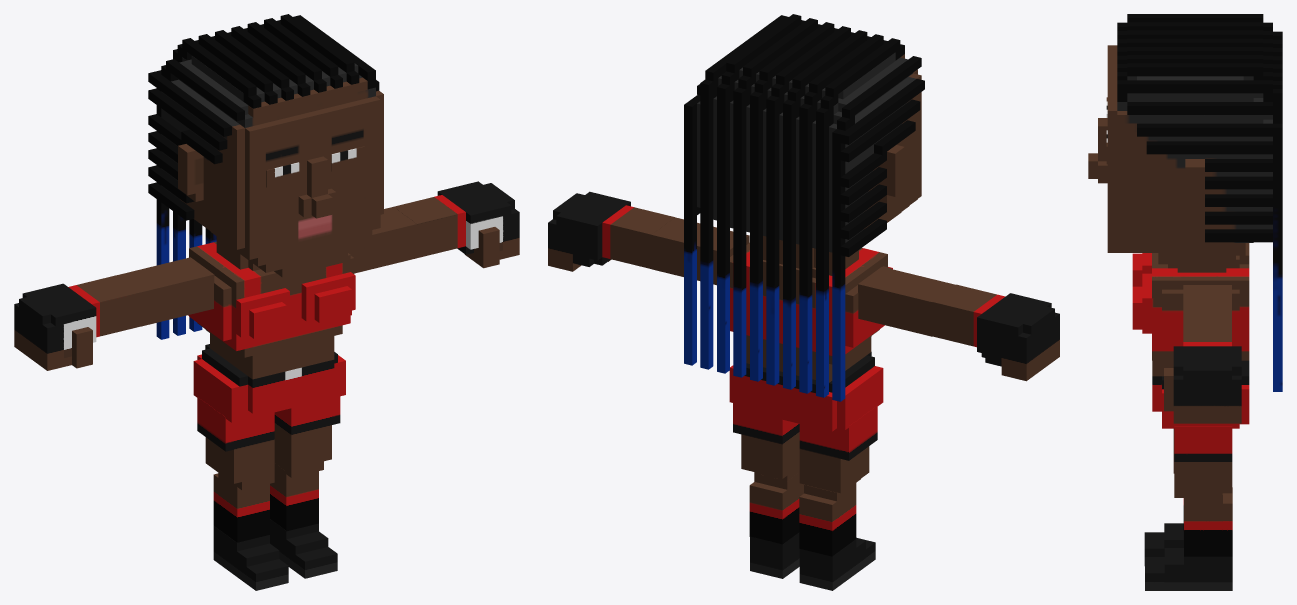
Rendered from aegis 1.fbx.
3 renders of one model, left to right at view 1: azimuth 30°, elevation 25°; view 2: azimuth 150°, elevation 25°; view 3: azimuth 270°, elevation 25°, orthographic. The views are drawn at different scales.
Parts seen in each view (by area): view 1: ARM 1-Local.002; view 2: ARM 1-Local.002; view 3: ARM 1-Local.002.
Boxes of the visible parts, <box> form: ARM 1-Local.002: <box>14,14,519,590</box>; ARM 1-Local.002: <box>548,14,1059,590</box>; ARM 1-Local.002: <box>1088,14,1282,590</box>.
Bounding box in the file's own units: 579 × 599 × 200.
Materials: 1 (1 with a texture image).
